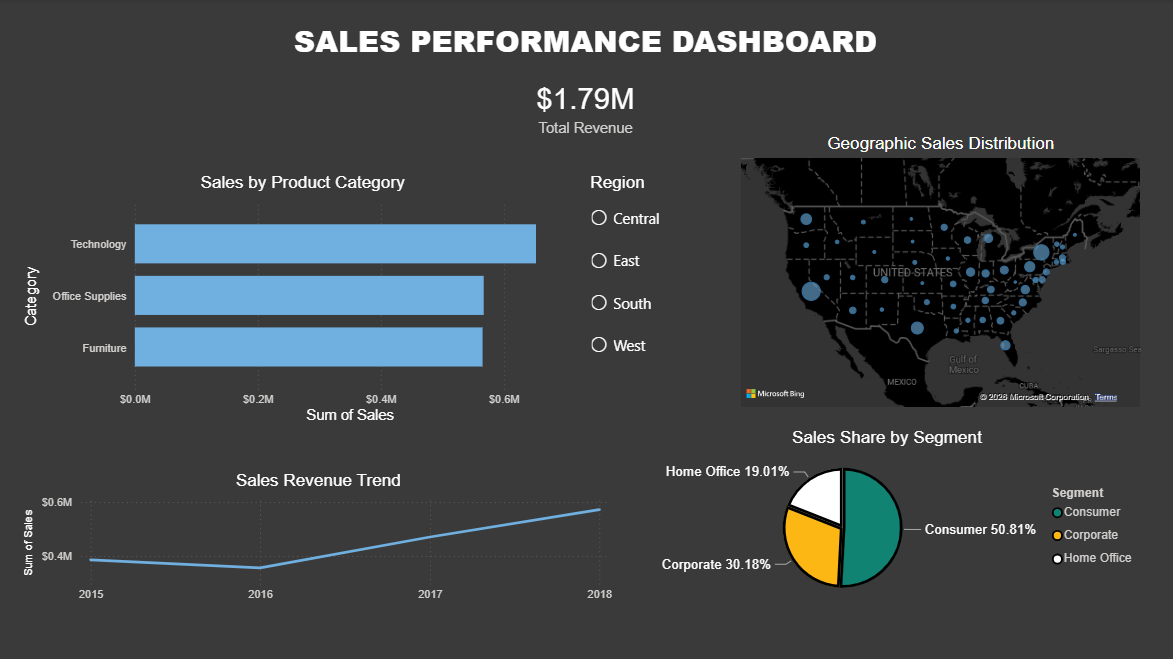

This screenshot's page, from the dashboard's own definition file:
{"tool":"powerbi","page":{"name":"Page 1","canvas":[1280,720],"ordinal":0},"visuals":[{"type":"clusteredBarChart","title":"Sales by Product Category","fields":{"Y":["Sum(Table1.Sales)"],"Category":["Table1.Category"]},"box":[24.5,188.9,615.7,277.3],"z":0},{"type":"card","title":"Total Revenue","fields":{"Values":["Sum(Table1.Sales)"]},"box":[500.2,78.8,280,76.1],"z":1000},{"type":"listSlicer","fields":{"Values":["Table1.Region"]},"box":[640.1,188.9,103.3,399.6],"z":2000},{"type":"textbox","box":[318,17.7,644.2,61.2],"z":3000},{"type":"lineChart","title":"Sales Revenue Trend","fields":{"Category":["Table1.Order Date.Variation.Date Hierarchy.Year","Table1.Order Date.Variation.Date Hierarchy.Quarter","Table1.Order Date.Variation.Date Hierarchy.Month","Table1.Order Date.Variation.Date Hierarchy.Day"],"Y":["Sum(Table1.Sales)"]},"box":[24.5,512.4,649.7,150.9],"z":4000},{"type":"pieChart","title":"Sales Share by Segment","fields":{"Category":["Table1.Segment"],"Y":["Sum(Table1.Sales)"]},"box":[687.7,466.2,560,197.1],"z":5000},{"type":"map","title":"Geographic Sales Distribution","fields":{"Category":["Table1.State"],"Size":["Sum(Table1.Sales)"]},"box":[804.6,146.8,443.1,301.7],"z":6000}]}

Visuals, with their boxes in screenshot pixels (x1, y1, x2, y2), scaled from the page's 1280x720 canvas onto the 1173x659 screenshot:
"Sales by Product Category" clusteredBarChart: locate(22, 173, 587, 427)
"Total Revenue" card: locate(458, 72, 715, 142)
listSlicer - Table1.Region: locate(587, 173, 681, 539)
textbox: locate(291, 16, 882, 72)
"Sales Revenue Trend" lineChart: locate(22, 469, 618, 607)
"Sales Share by Segment" pieChart: locate(630, 427, 1143, 607)
"Geographic Sales Distribution" map: locate(737, 134, 1143, 411)
